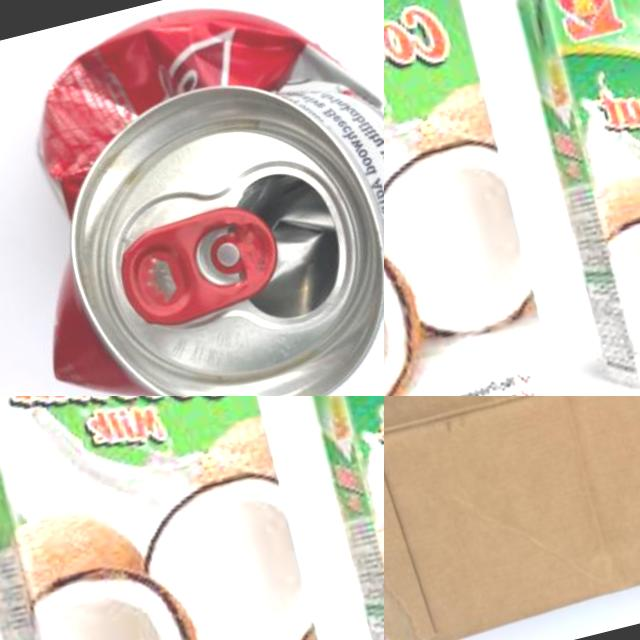aba de lata: (106, 193, 290, 335)
caixinha: (0, 396, 346, 640), (384, 0, 565, 396), (506, 0, 640, 389), (287, 396, 384, 640)
lata: (0, 0, 384, 396)
papelão: (384, 396, 640, 640)
